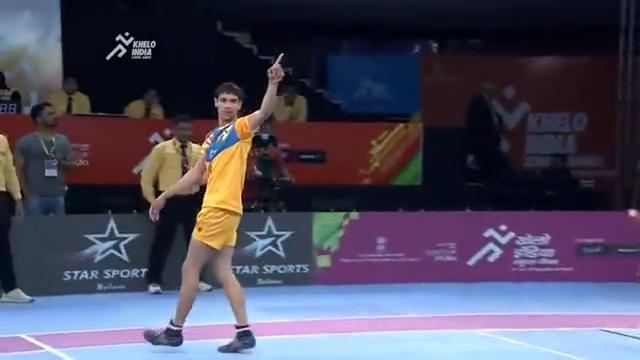Raider: (141, 51, 287, 354)
referee: (140, 114, 213, 294)
